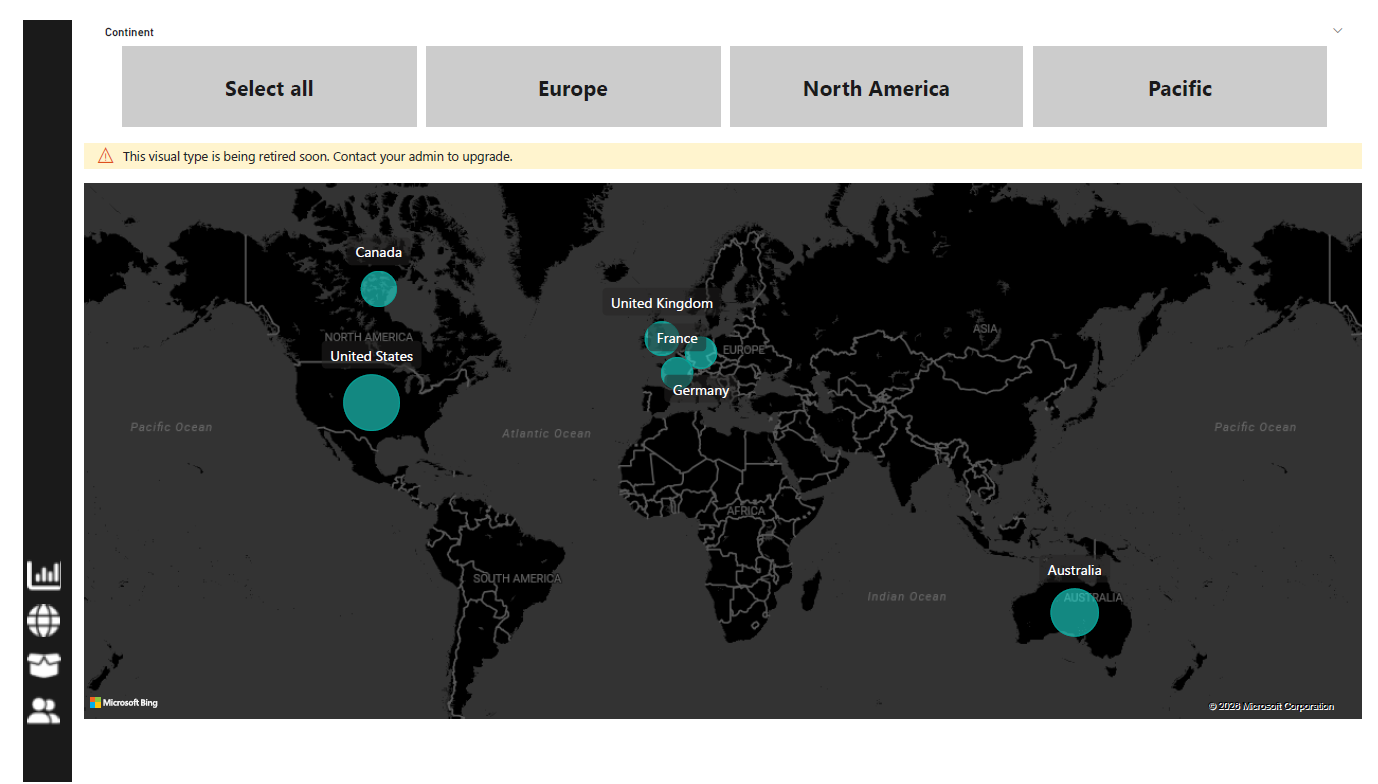

What the dashboard file says about the page in this screenshot:
{"tool":"powerbi","page":{"name":"Map","canvas":[1280,720],"ordinal":1},"visuals":[{"type":"shape","box":[0,0,45,720],"z":0},{"type":"actionButton","box":[0,547.1,63.9,38.6],"z":0,"group":"g1"},{"type":"map","fields":{"Category":["Territory Lookup.Country"],"Size":["Measure Table.Total orders"]},"box":[52.9,111.4,1215.7,552.9],"z":1000},{"type":"actionButton","box":[0,589.6,63.9,38.6],"z":1000,"group":"g1"},{"type":"slicer","fields":{"Values":["Territory Lookup.Continent"]},"box":[64.3,0,1194.3,111.4],"z":2000},{"type":"actionButton","box":[0,504.6,63.9,38.6],"z":2000,"group":"g1"},{"type":"group","id":"g1","title":"navigation buttons","box":[0,504.6,64.6,166.2],"z":3000},{"type":"actionButton","box":[0,632.2,63.9,38.6],"z":3000,"group":"g1"}]}

Visuals, with their boxes on the page's 1280x720 design canvas (x1, y1, x2, y2). These are canvas units, not pixel positions in the 1378x784 screenshot, which may show the page scaled, cropped or inside an application window:
shape: {"left": 0, "top": 0, "right": 45, "bottom": 720}
actionButton: {"left": 0, "top": 547, "right": 64, "bottom": 586}
map - Territory Lookup.Country x Measure Table.Total orders: {"left": 53, "top": 111, "right": 1269, "bottom": 664}
actionButton: {"left": 0, "top": 590, "right": 64, "bottom": 628}
slicer - Territory Lookup.Continent: {"left": 64, "top": 0, "right": 1259, "bottom": 111}
actionButton: {"left": 0, "top": 505, "right": 64, "bottom": 543}
"navigation buttons" group: {"left": 0, "top": 505, "right": 65, "bottom": 671}
actionButton: {"left": 0, "top": 632, "right": 64, "bottom": 671}
